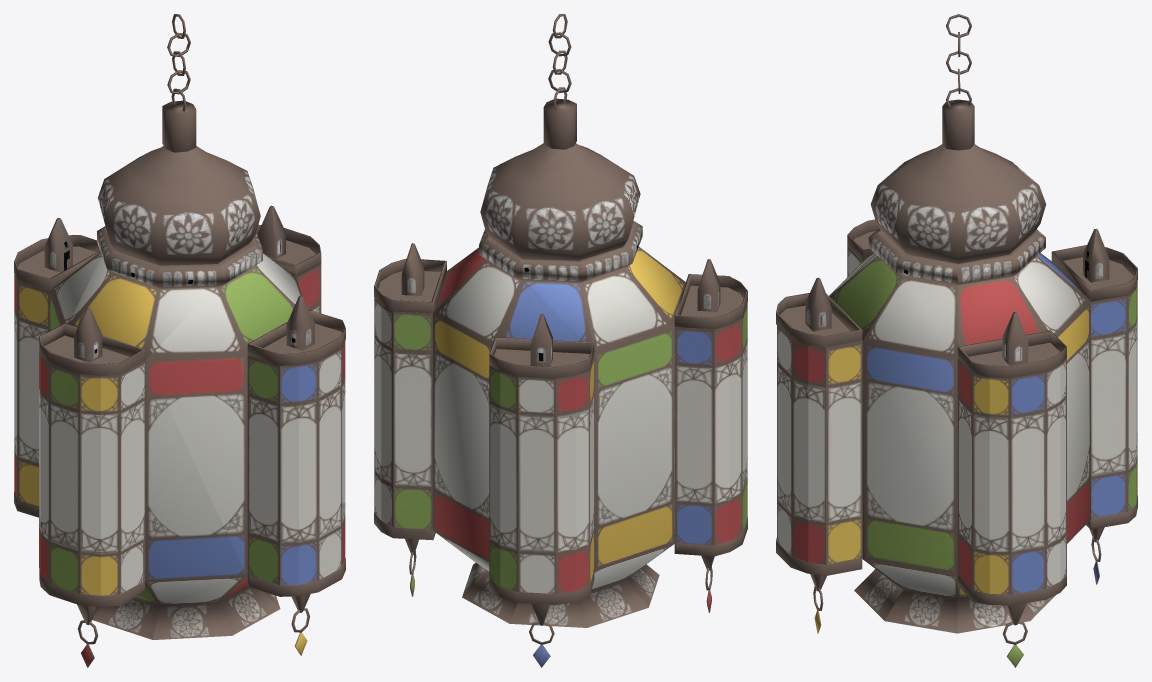
The model's file is kristina-stained-glass-lamp.glb.
The picture shows the model from 3 angles, left to right: view 1: azimuth 30°, elevation 25°; view 2: azimuth 150°, elevation 25°; view 3: azimuth 270°, elevation 25°; orthographic projection.
Visible parts, largest first — view 1: base_low; view 2: base_low; view 3: base_low.
Part boxes in pixels (<box>): base_low: <box>14,14,345,667</box>; base_low: <box>374,14,747,667</box>; base_low: <box>776,14,1137,667</box>.
Bounding box in the file's own units: 0.0612 × 0.1115 × 0.0615.
Materials: 1 (1 with a texture image).
